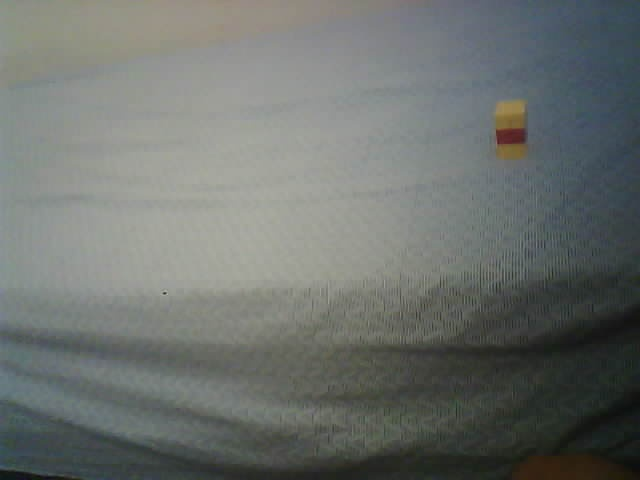lego: (492, 99, 529, 160)
